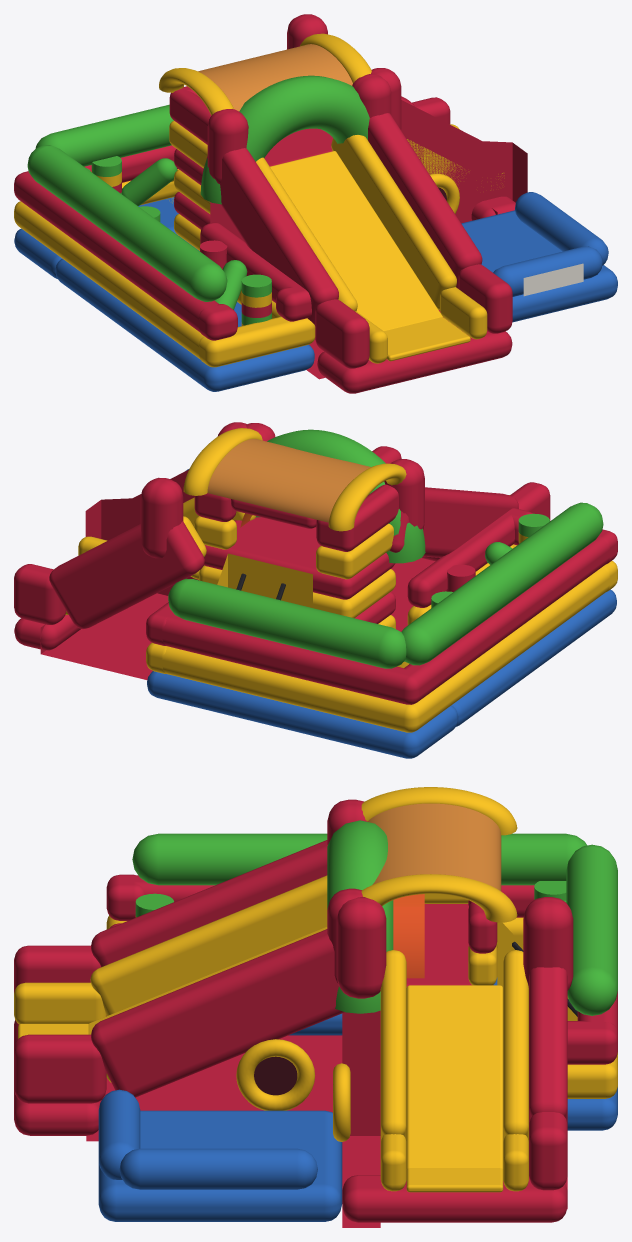
Rendered from megatobogan-v6.glb.
The picture shows the model from 3 angles, top to bottom: view 1: azimuth 30°, elevation 25°; view 2: azimuth 150°, elevation 25°; view 3: azimuth 270°, elevation 25°; orthographic projection. The views are drawn at different scales.
Visible parts, largest first — view 1: rojo, amarillo, verde, azul, lona, cartel; view 2: rojo, amarillo, verde, azul, lona; view 3: rojo, amarillo, azul, verde, lona, malla, hueco.
Part boxes in pixels (x1,y1,x2,y2): rojo: (14,14,527,393); amarillo: (14,33,504,367); verde: (27,75,369,325); azul: (14,192,617,391); lona: (198,44,352,111); cartel: (523,263,583,296); rojo: (14,422,617,704); amarillo: (65,428,617,732); verde: (168,429,603,668); azul: (147,468,616,758); lona: (207,439,370,522); rojo: (14,799,617,1227); amarillo: (14,787,617,1192); azul: (98,977,617,1221); verde: (132,820,617,1015); lona: (367,803,501,890); malla: (393,894,424,978); hueco: (254,1056,297,1095).
Bounding box in the file's own units: 7.5 × 3.5 × 7.5.
